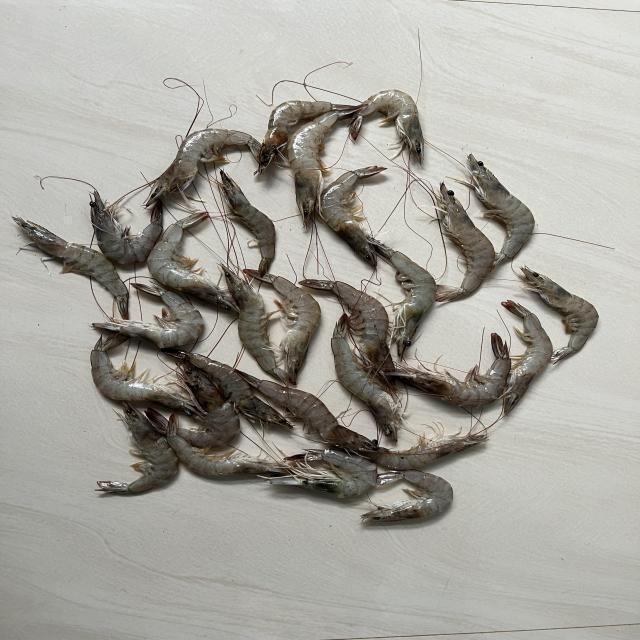shrimp: (11, 217, 128, 319), (299, 279, 397, 393), (239, 373, 378, 451), (161, 349, 292, 428), (287, 105, 368, 227), (387, 333, 511, 408), (146, 211, 238, 312), (331, 314, 402, 443), (144, 128, 261, 206), (243, 269, 321, 385), (89, 333, 197, 415), (456, 153, 535, 265), (368, 238, 437, 358), (220, 264, 288, 383), (521, 266, 599, 364), (95, 402, 178, 494), (254, 100, 356, 174), (91, 283, 203, 349), (166, 415, 286, 476), (436, 182, 496, 302), (320, 165, 386, 270), (502, 300, 554, 416), (219, 170, 275, 275), (176, 360, 239, 449), (266, 449, 377, 499), (349, 89, 423, 164), (88, 190, 162, 264), (361, 470, 453, 522), (359, 434, 488, 471)
